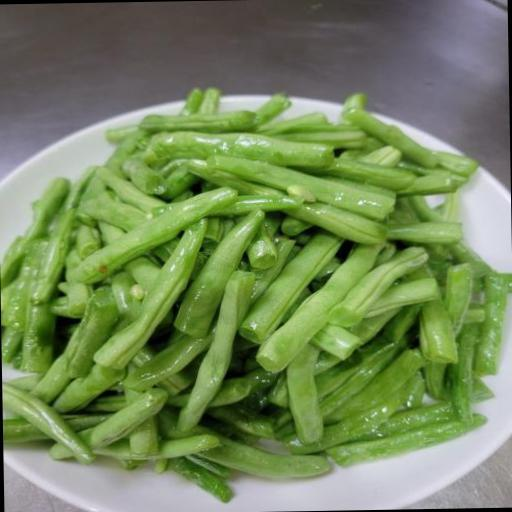buncis_rebus: (0, 56, 502, 509)
